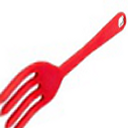fork: (1, 11, 128, 128)
